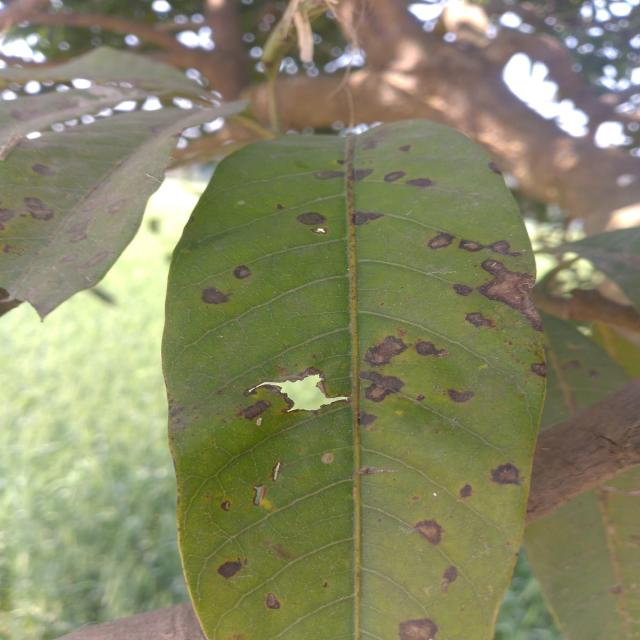Anthracnose: (423, 227, 538, 330), (317, 158, 443, 192), (363, 338, 414, 402), (391, 614, 448, 639), (487, 460, 528, 487), (292, 207, 333, 229), (195, 286, 232, 309), (414, 520, 445, 540), (526, 358, 549, 381), (230, 264, 261, 279), (448, 387, 474, 401)
Bacterial Cancer: (263, 356, 351, 420)
